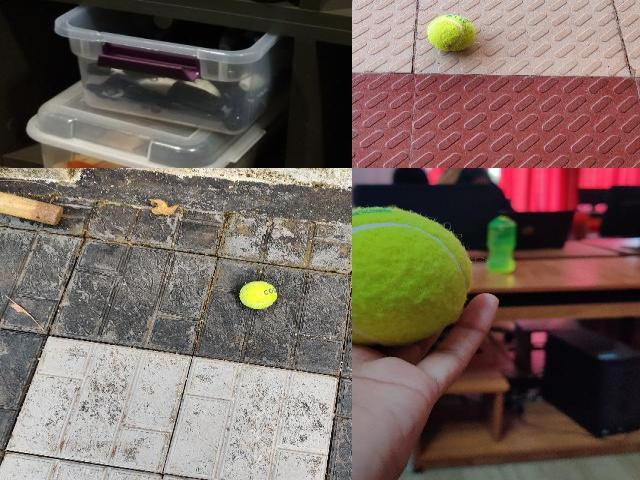tennis-ball: (352, 206, 472, 346), (426, 14, 476, 50), (238, 281, 278, 309)
